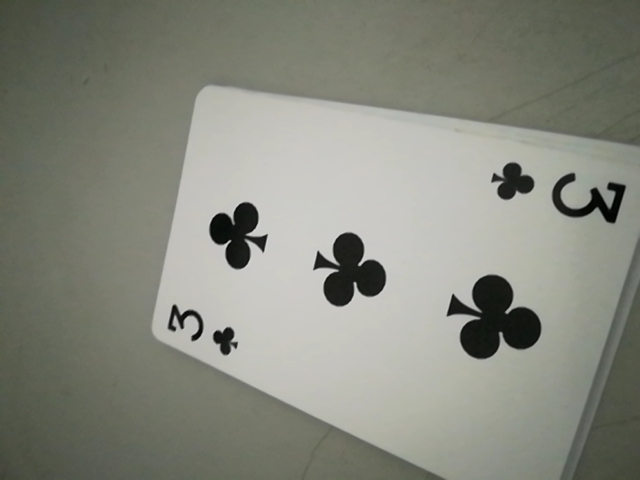mh 3: (485, 159, 628, 229), (161, 299, 246, 360)
